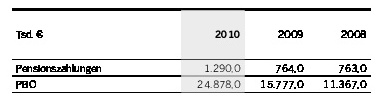table: (0, 0, 384, 108)
